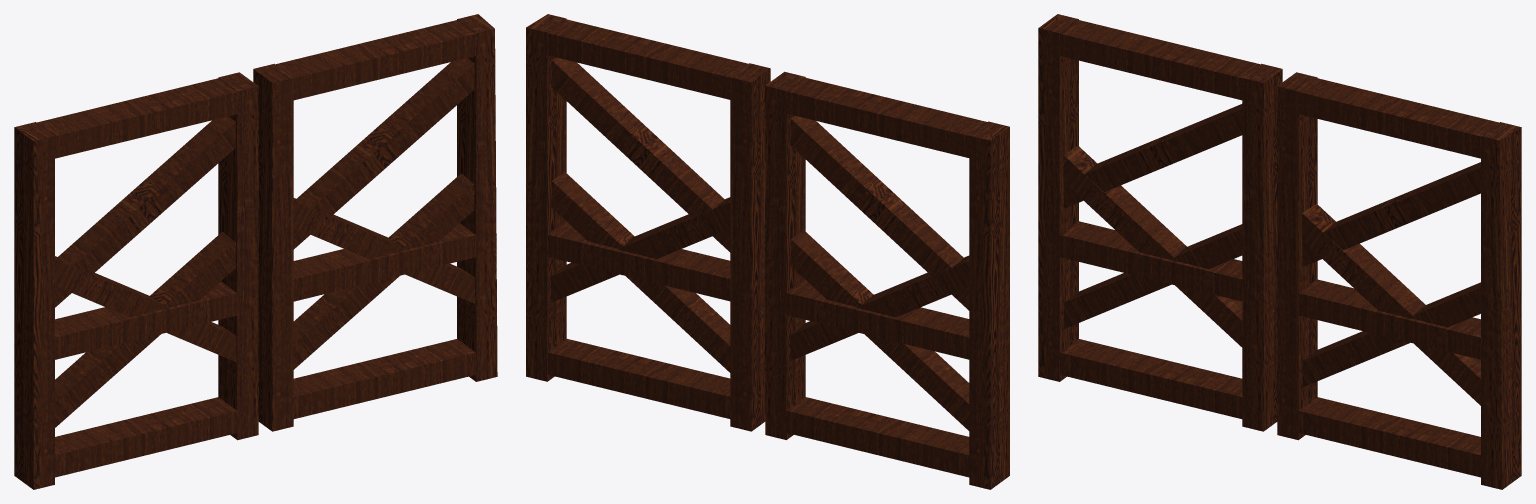
File: RejaExt.fbx
3 views of the same model, side by side, from view 1: azimuth 30°, elevation 25°; view 2: azimuth 150°, elevation 25°; view 3: azimuth 330°, elevation 25° (orthographic).
Visible parts, largest first — view 1: RejaExt; view 2: RejaExt; view 3: RejaExt.
Part boxes in pixels (x1,y1,x2,y2): RejaExt: (14,14,497,489); RejaExt: (526,14,1009,489); RejaExt: (1038,14,1521,489).
Size of the model in its own units: 192 by 138 by 13.83.
